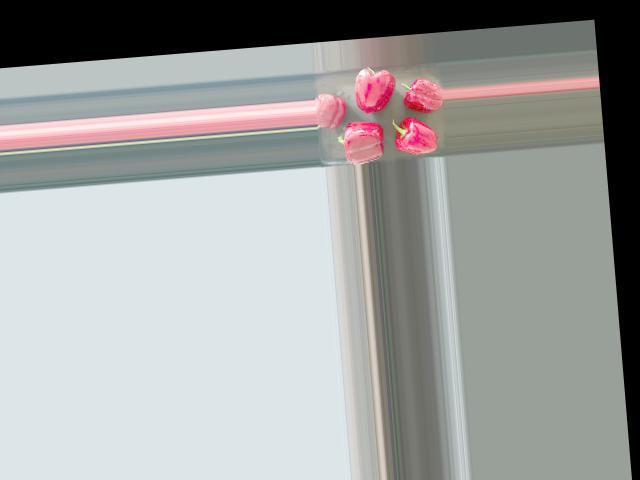bell_pepper: (314, 85, 349, 131)
